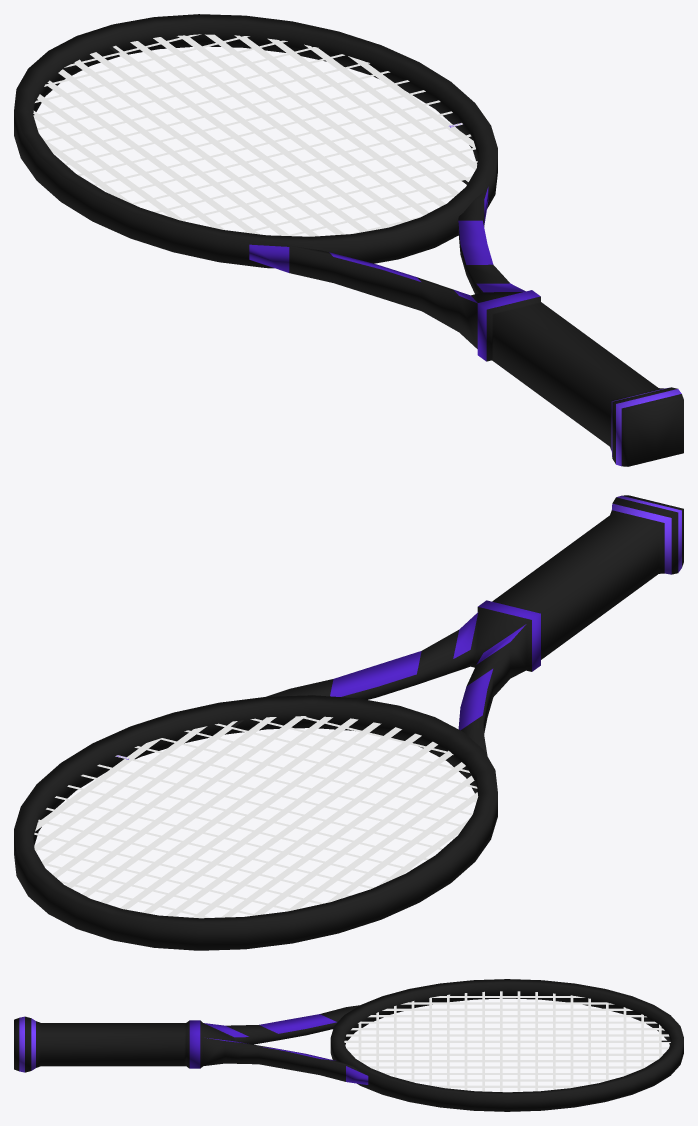
Rendered from raquetaablender3 (1).fbx.
3 renders of one model, top to bottom at view 1: azimuth 30°, elevation 25°; view 2: azimuth 150°, elevation 25°; view 3: azimuth 270°, elevation 25°, orthographic. The views are drawn at different scales.
Visible parts, largest first — view 1: raqueta; view 2: raqueta; view 3: raqueta.
Part boxes in pixels (left/top/right/bottom): raqueta: left=14, top=14, right=683, bottom=466; raqueta: left=14, top=495, right=683, bottom=950; raqueta: left=14, top=979, right=683, bottom=1111.
Bounding box in the file's own units: 176 × 26.24 × 426.
2 materials, 2 textured.
